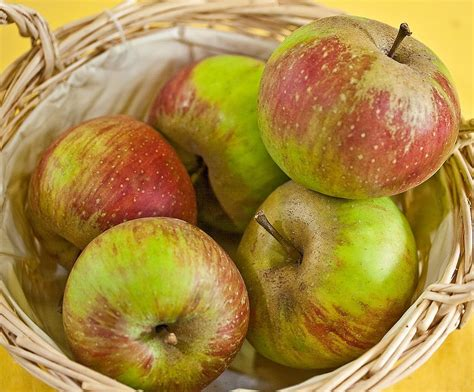apple: (254, 12, 466, 202), (236, 170, 422, 370), (140, 40, 321, 241), (59, 213, 254, 392), (24, 109, 210, 273)
